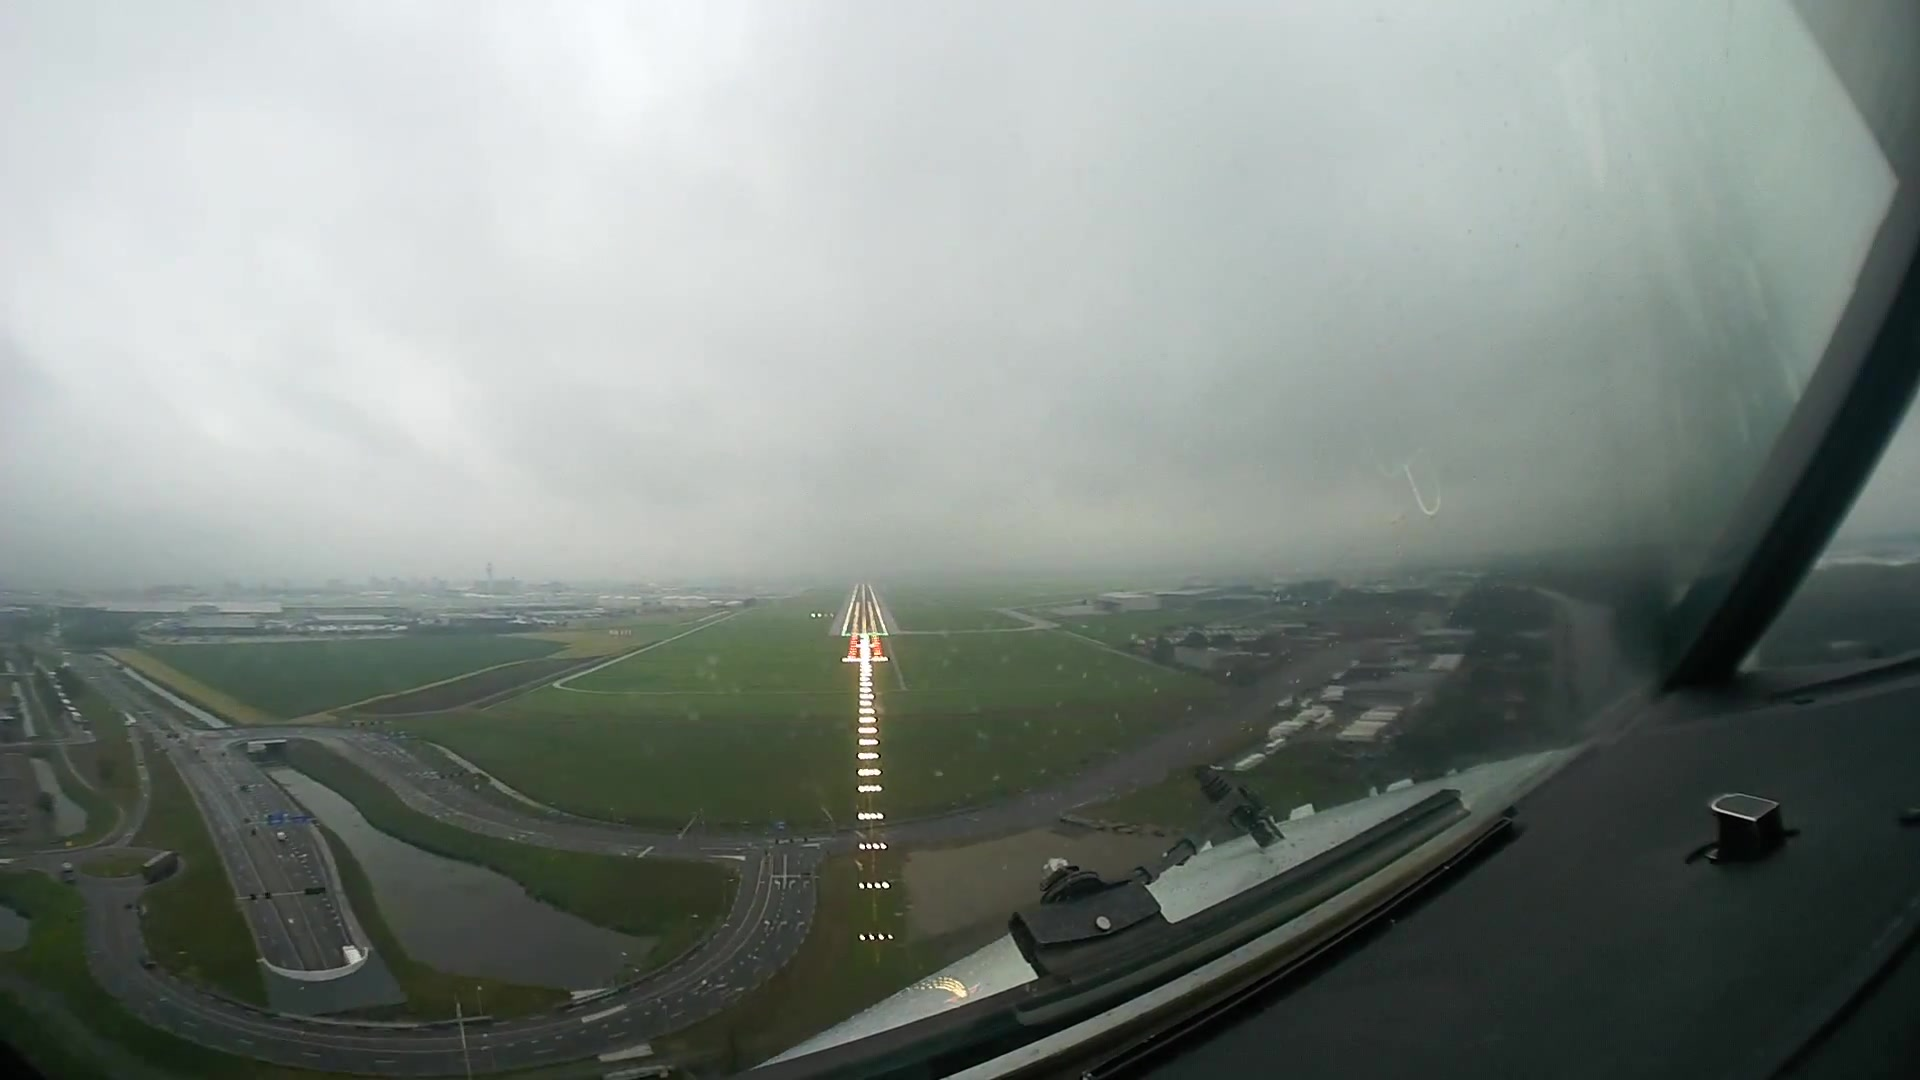runway: (833, 585, 894, 640)
